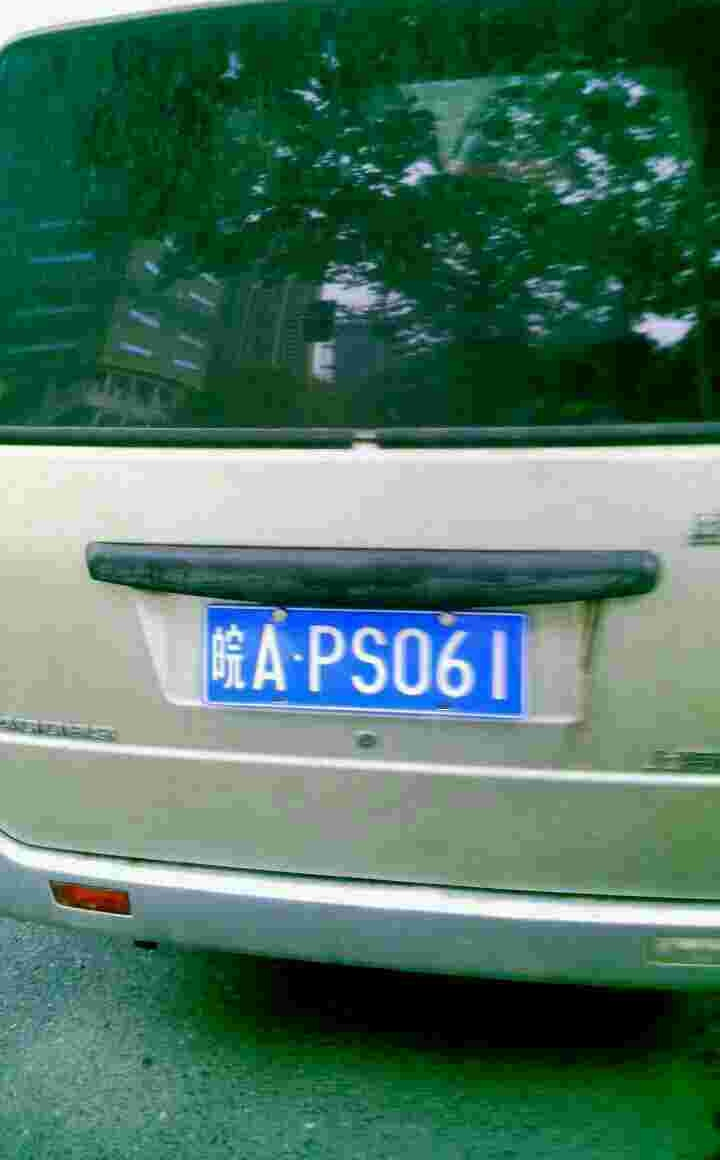license_plate: (201, 603, 525, 718)
